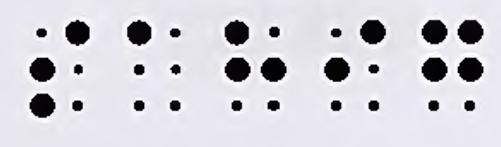a: (124, 21, 181, 110)
g: (419, 19, 483, 116)
h: (227, 19, 288, 111)
i: (323, 19, 384, 112)
s: (31, 19, 88, 117)
